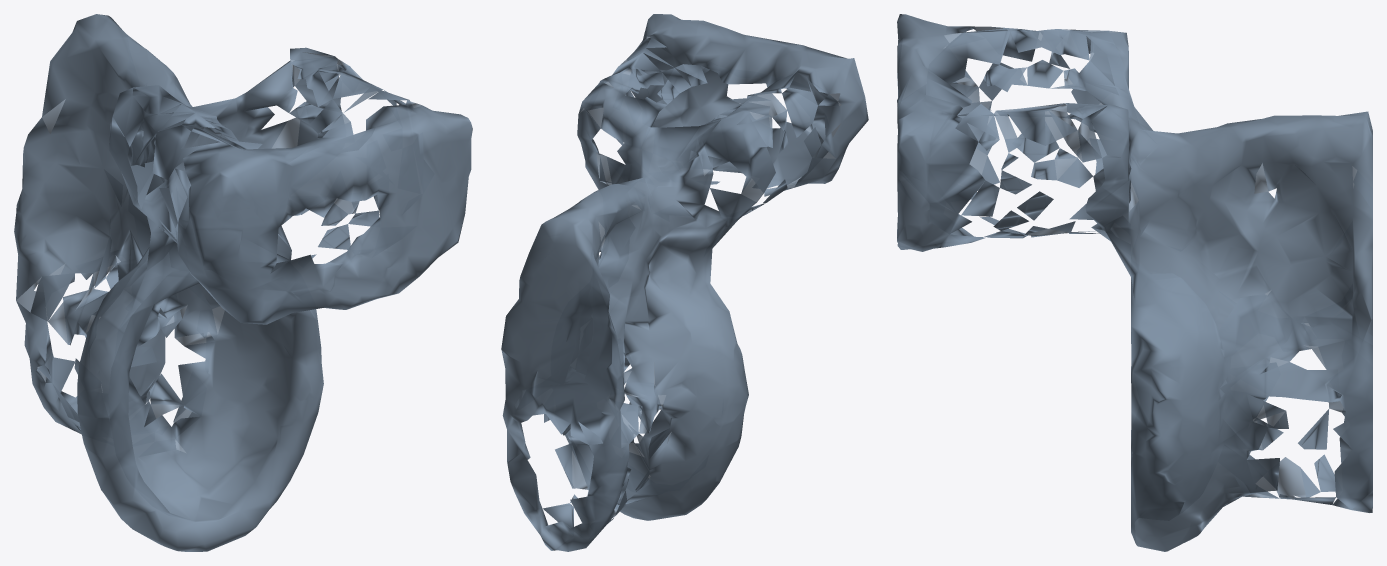
Rendered from toilet_0442_original.obj.
The picture shows the model from 3 angles, left to right: view 1: azimuth 30°, elevation 25°; view 2: azimuth 150°, elevation 25°; view 3: azimuth 270°, elevation 25°; orthographic projection. The views are drawn at different scales.
Size of the model in its own units: 0.8398 by 1.47 by 1.34.
